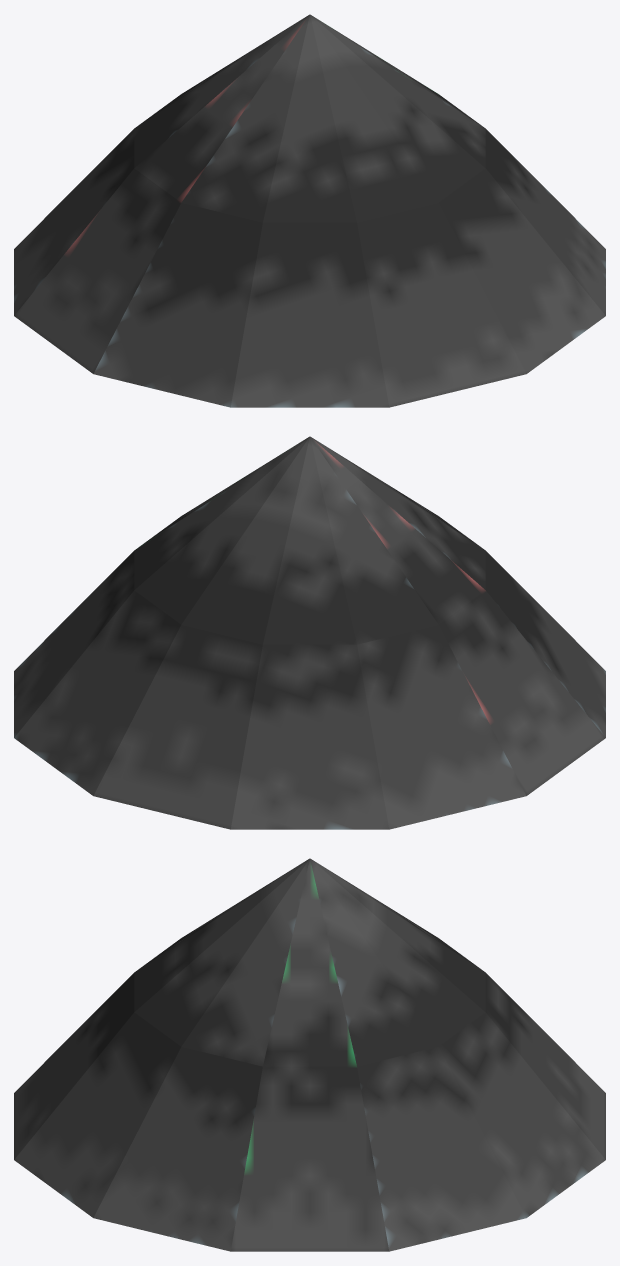
Rendered from BodyLamp.fbx.
3 renders of one model, top to bottom at view 1: azimuth 30°, elevation 25°; view 2: azimuth 150°, elevation 25°; view 3: azimuth 270°, elevation 25°, orthographic.
Parts seen in each view (by area): view 1: cone; view 2: cone; view 3: cone.
Boxes of the visible parts, <box> form: cone: <box>14,14,605,407</box>; cone: <box>14,436,605,829</box>; cone: <box>14,858,605,1251</box>.
Size of the model in its own units: 100 by 50 by 100.
Materials: 1 (1 with a texture image).
